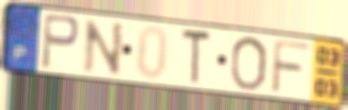0: (134, 24, 171, 82)
F: (269, 38, 313, 96)
N: (82, 18, 127, 78)
O: (229, 35, 270, 92)
P: (39, 11, 82, 72)
T: (180, 27, 213, 87)
